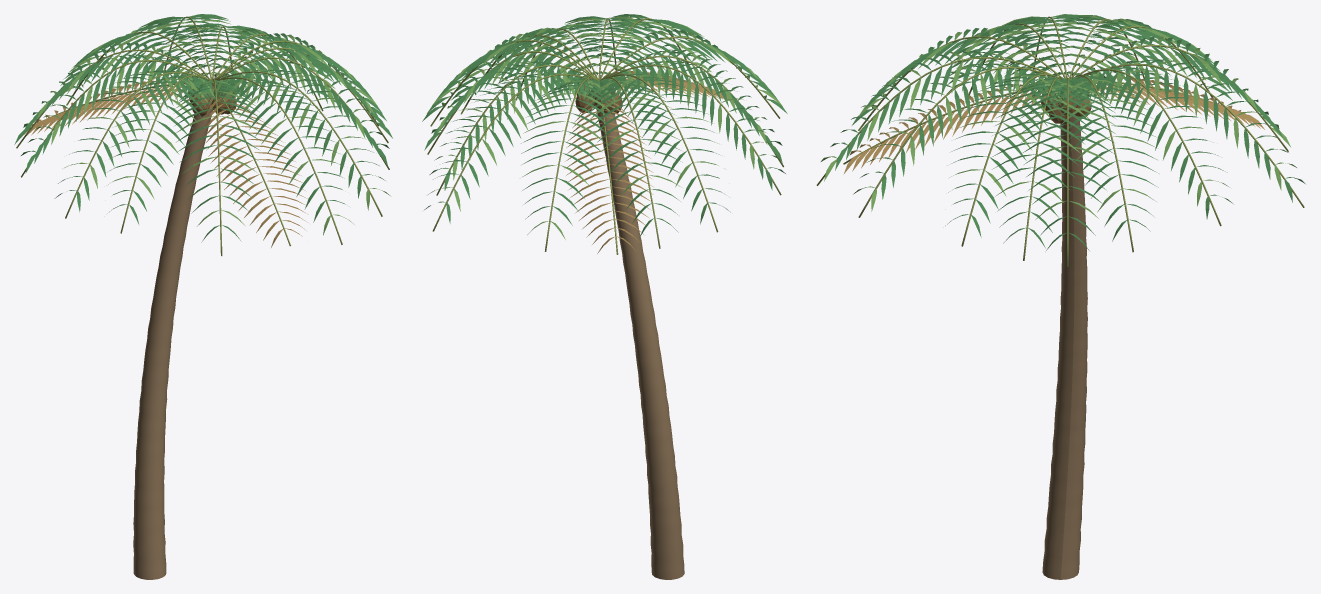
The model's file is blender-coconut-palm.glb.
The picture shows the model from 3 angles, left to right: view 1: azimuth 30°, elevation 25°; view 2: azimuth 150°, elevation 25°; view 3: azimuth 270°, elevation 25°; orthographic projection. The views are drawn at different scales.
Parts seen in each view (by area): view 1: palm-leaf, palm-bark, palm-leaf-light, palm-rachis, palm-dry-leaf, palm-coconut; view 2: palm-leaf, palm-bark, palm-leaf-light, palm-rachis, palm-dry-leaf; view 3: palm-leaf, palm-bark, palm-leaf-light, palm-rachis, palm-dry-leaf.
Boxes of the visible parts, box(x1,y1,x2,y2) form: palm-leaf: box(14, 14, 392, 242); palm-bark: box(133, 83, 218, 579); palm-leaf-light: box(36, 14, 390, 235); palm-rachis: box(16, 16, 389, 256); palm-dry-leaf: box(22, 80, 308, 247); palm-coconut: box(189, 87, 236, 116); palm-leaf: box(422, 14, 787, 237); palm-bark: box(593, 82, 684, 579); palm-leaf-light: box(428, 16, 782, 239); palm-rachis: box(427, 18, 783, 254); palm-dry-leaf: box(565, 71, 728, 253); palm-leaf: box(830, 14, 1305, 250); palm-bark: box(1042, 88, 1087, 579); palm-leaf-light: box(821, 14, 1296, 219); palm-rachis: box(816, 16, 1304, 266); palm-dry-leaf: box(843, 76, 1264, 174).
Size of the model in its own units: 5.59 by 8.02 by 6.44.
